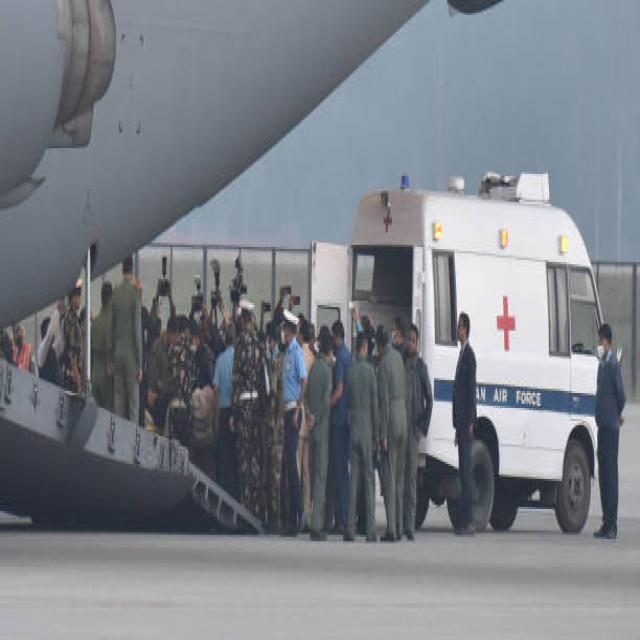ambulance: (353, 180, 610, 532)
